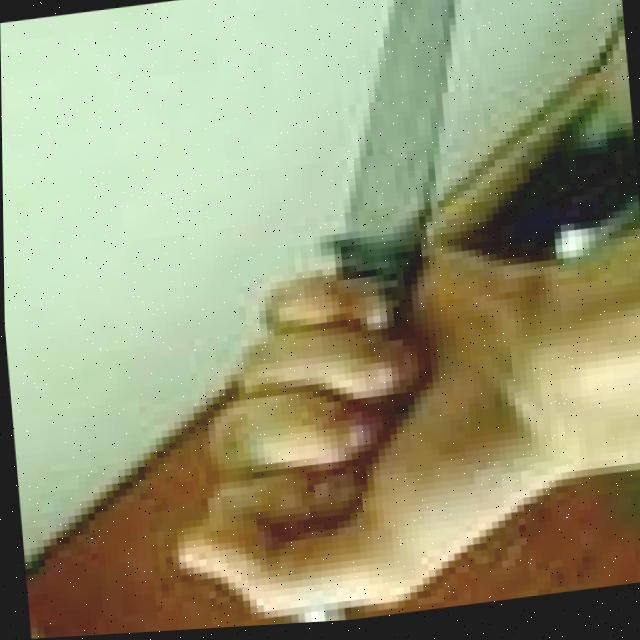knife: (314, 0, 503, 272)
